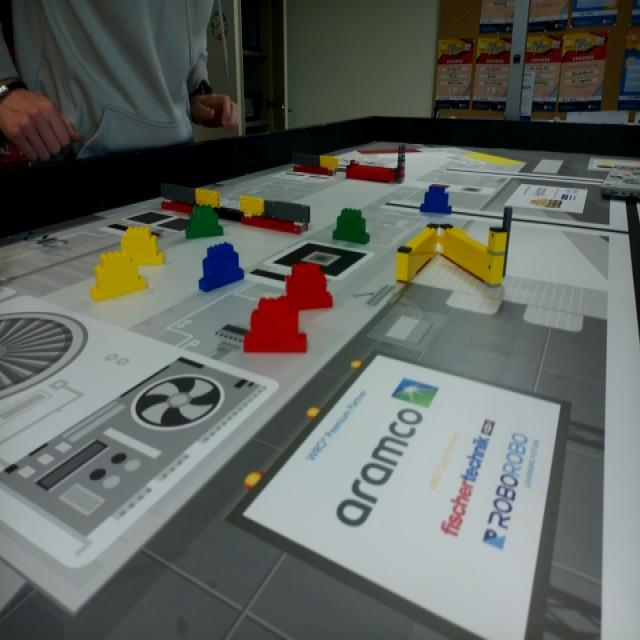blau: (202, 246, 241, 291), (419, 186, 453, 216)
gruen: (335, 205, 371, 245), (188, 209, 219, 239)
rot: (244, 299, 308, 354), (282, 264, 335, 309)
yellow: (95, 254, 146, 300), (119, 227, 165, 266)
